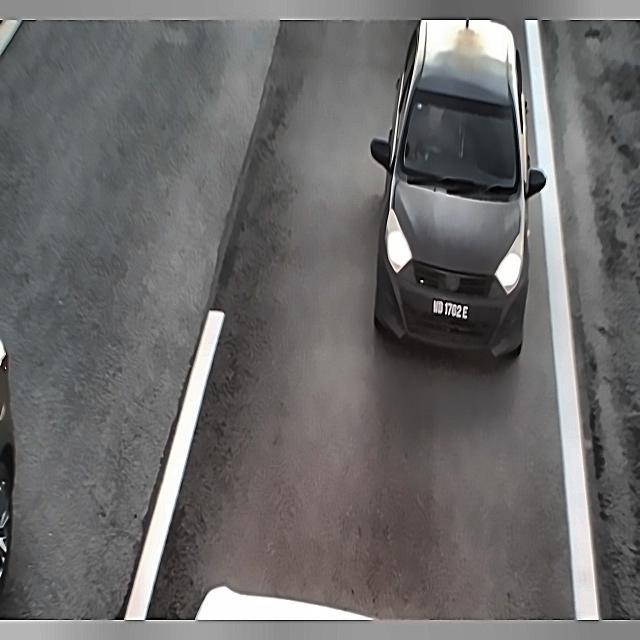car: (426, 292, 473, 332)
